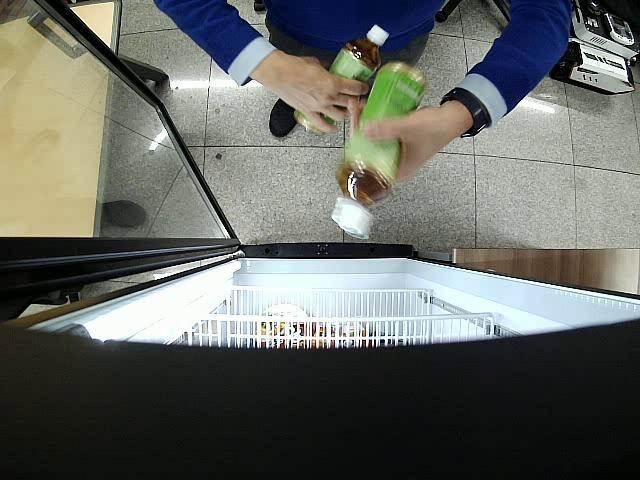19_17cha: (332, 61, 428, 238), (296, 24, 390, 135)
